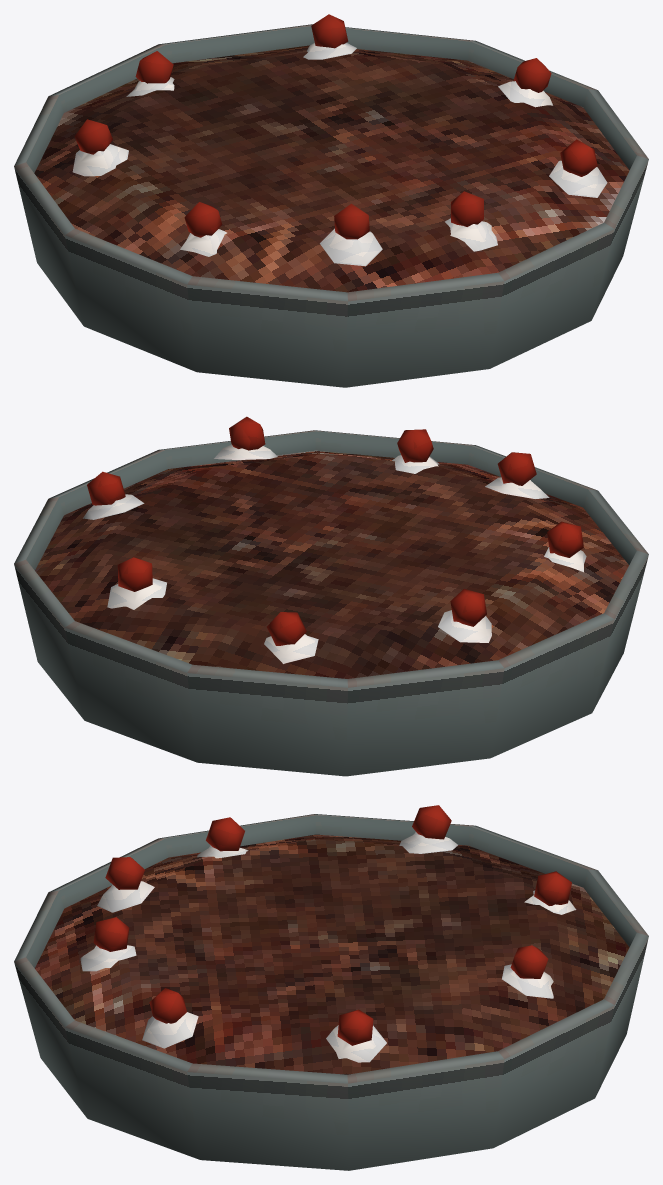
File: CakePan_BlackForest.fbx
The picture shows the model from 3 angles, top to bottom: view 1: azimuth 30°, elevation 25°; view 2: azimuth 150°, elevation 25°; view 3: azimuth 270°, elevation 25°; orthographic projection.
Visible parts, largest first — view 1: Cake; view 2: Cake; view 3: Cake.
Part boxes in pixels (left/top/right/bottom): Cake: left=14, top=14, right=648, bottom=387; Cake: left=14, top=416, right=648, bottom=776; Cake: left=14, top=805, right=648, bottom=1170.
Size of the model in its own units: 57.38 by 15.49 by 57.37.
